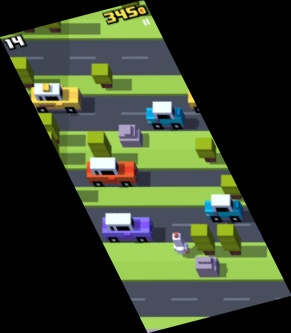car: (30, 84, 83, 116), (86, 156, 137, 188), (102, 214, 154, 243), (144, 100, 186, 131), (187, 86, 231, 114), (203, 193, 242, 224)
duck: (169, 231, 190, 255)
rock: (116, 122, 142, 146), (196, 256, 219, 277)
tree: (34, 112, 62, 145), (6, 57, 34, 89), (217, 224, 242, 257), (88, 131, 111, 164), (190, 224, 214, 255), (39, 129, 62, 159), (220, 175, 244, 201), (40, 10, 63, 37), (18, 8, 38, 37), (91, 64, 114, 88), (195, 138, 215, 163)
